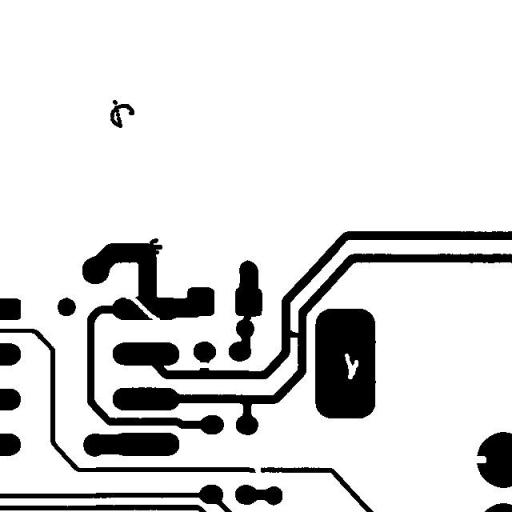copper: (102, 92, 142, 135)
mousebite: (464, 448, 494, 470)
open: (118, 287, 167, 330), (188, 354, 221, 376), (245, 455, 269, 483)
pin-hole: (336, 346, 366, 386)
short: (234, 297, 260, 331), (274, 322, 310, 344)
spur: (139, 230, 170, 262)
